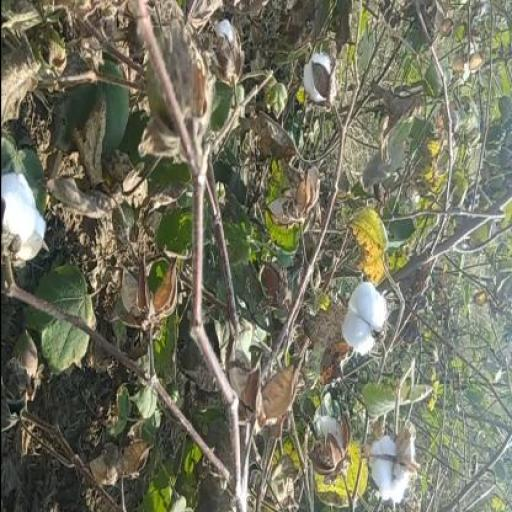cotton_ready: (1, 135, 46, 302), (336, 278, 384, 372), (356, 438, 422, 502), (290, 38, 338, 124)
